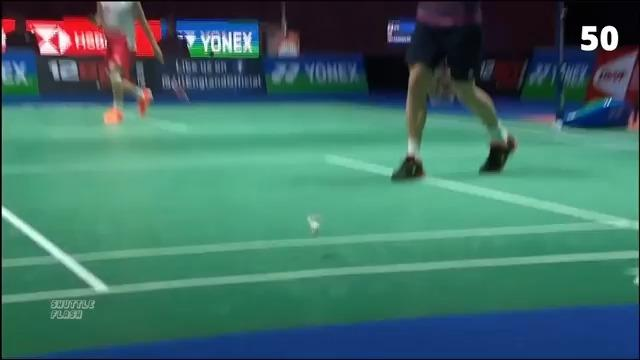Shuttlecock: (306, 212, 326, 240)
